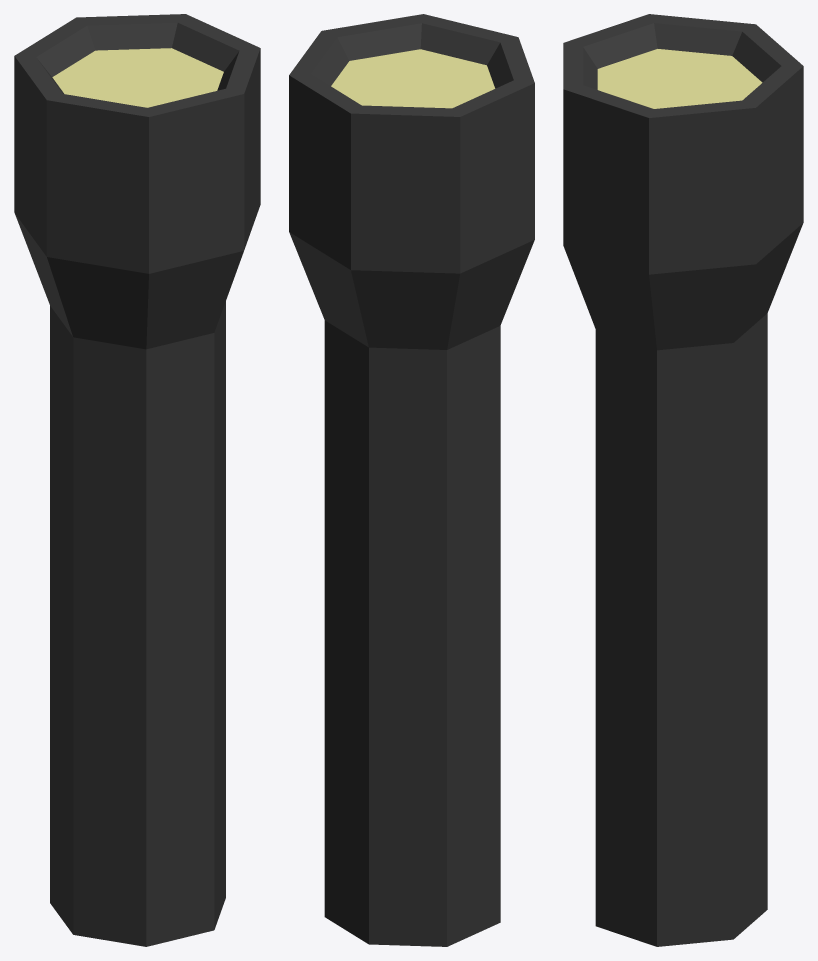
The model's file is flashligh02fbx.fbx.
The picture shows the model from 3 angles, left to right: view 1: azimuth 30°, elevation 25°; view 2: azimuth 150°, elevation 25°; view 3: azimuth 270°, elevation 25°; orthographic projection.
Parts seen in each view (by area): view 1: flashlight; view 2: flashlight; view 3: flashlight.
Part boxes in pixels (bbox=[...]): flashlight: bbox=[14, 14, 260, 946]; flashlight: bbox=[289, 14, 534, 946]; flashlight: bbox=[563, 14, 803, 946].
Size of the model in its own units: 161 by 609 by 157.
